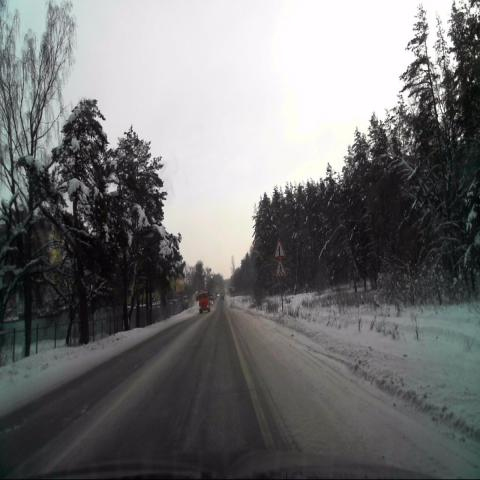2_3_3: (272, 238, 286, 259)
